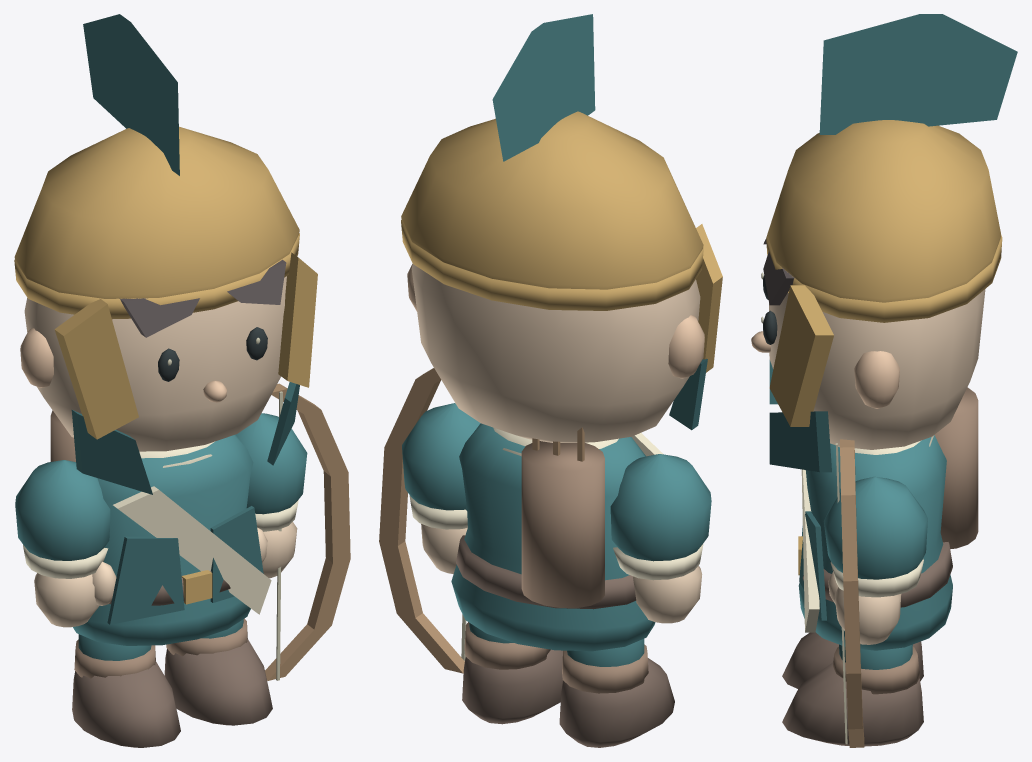
The model's file is archer.glb.
3 views of the same model, side by side, from view 1: azimuth 30°, elevation 25°; view 2: azimuth 150°, elevation 25°; view 3: azimuth 270°, elevation 25° (orthographic). The views are drawn at different scales.
Parts seen in each view (by area): view 1: Regional helmet, Soft cheek head, Short folded tunic, Greek crest, Puff sleeve, Curved bow, Round leather boot, Corinthian cheek, Round leather boot.001, Cream shoulder sash, Coat fold, Puff sleeve.001 (+20 smaller); view 2: Regional helmet, Soft cheek head, Short folded tunic, Quiver leather, Greek crest, Puff sleeve, Curved bow, Helmet brow band, Round leather boot, Puff sleeve.001, Round leather boot.001, Broad leather belt (+10 smaller); view 3: Regional helmet, Greek crest, Soft cheek head, Short folded tunic, Puff sleeve.001, Round leather boot.001, Corinthian cheek.001, Quiver leather, Curved bow, Helmet brow band, Hood cheek cowl R, Ear.001 (+10 smaller).
Boxes of the visible parts, <box> form: Regional helmet: <box>14,126,299,298</box>; Soft cheek head: <box>24,276,286,451</box>; Short folded tunic: <box>73,434,253,645</box>; Greek crest: <box>83,14,179,175</box>; Puff sleeve: <box>15,460,110,560</box>; Curved bow: <box>265,383,350,680</box>; Round leather boot: <box>72,661,180,747</box>; Corinthian cheek: <box>54,299,138,439</box>; Round leather boot.001: <box>164,639,272,725</box>; Cream shoulder sash: <box>113,486,271,614</box>; Coat fold: <box>107,536,184,624</box>; Puff sleeve.001: <box>235,413,307,514</box>; Regional helmet: <box>401,111,703,289</box>; Soft cheek head: <box>411,264,700,442</box>; Short folded tunic: <box>451,423,655,651</box>; Quiver leather: <box>521,441,604,608</box>; Greek crest: <box>492,14,595,161</box>; Puff sleeve: <box>610,454,711,561</box>; Curved bow: <box>379,368,464,673</box>; Helmet brow band: <box>401,220,703,310</box>; Round leather boot: <box>559,658,674,747</box>; Puff sleeve.001: <box>402,403,480,510</box>; Round leather boot.001: <box>462,649,562,724</box>; Broad leather belt: <box>456,535,636,609</box>; Regional helmet: <box>767,120,1000,302</box>; Greek crest: <box>819,14,1017,134</box>; Soft cheek head: <box>769,289,985,449</box>; Short folded tunic: <box>798,435,952,650</box>; Puff sleeve.001: <box>823,476,927,579</box>; Round leather boot.001: <box>782,662,923,746</box>; Corinthian cheek.001: <box>769,285,833,426</box>; Quiver leather: <box>934,387,978,548</box>; Curved bow: <box>840,439,864,747</box>; Helmet brow band: <box>766,234,1002,322</box>; Hood cheek cowl R: <box>769,411,831,472</box>; Ear.001: <box>854,351,899,408</box>.
Bounding box in the file's own units: 0.89 × 1.83 × 0.639.
